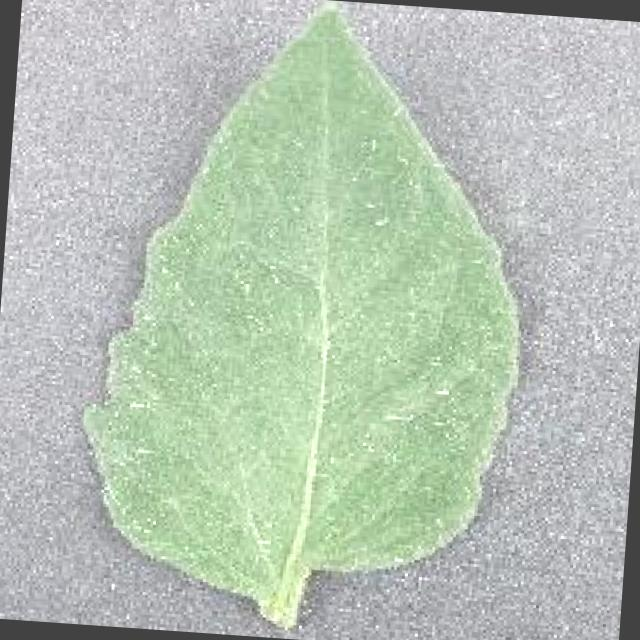healthy: (76, 13, 519, 631)
